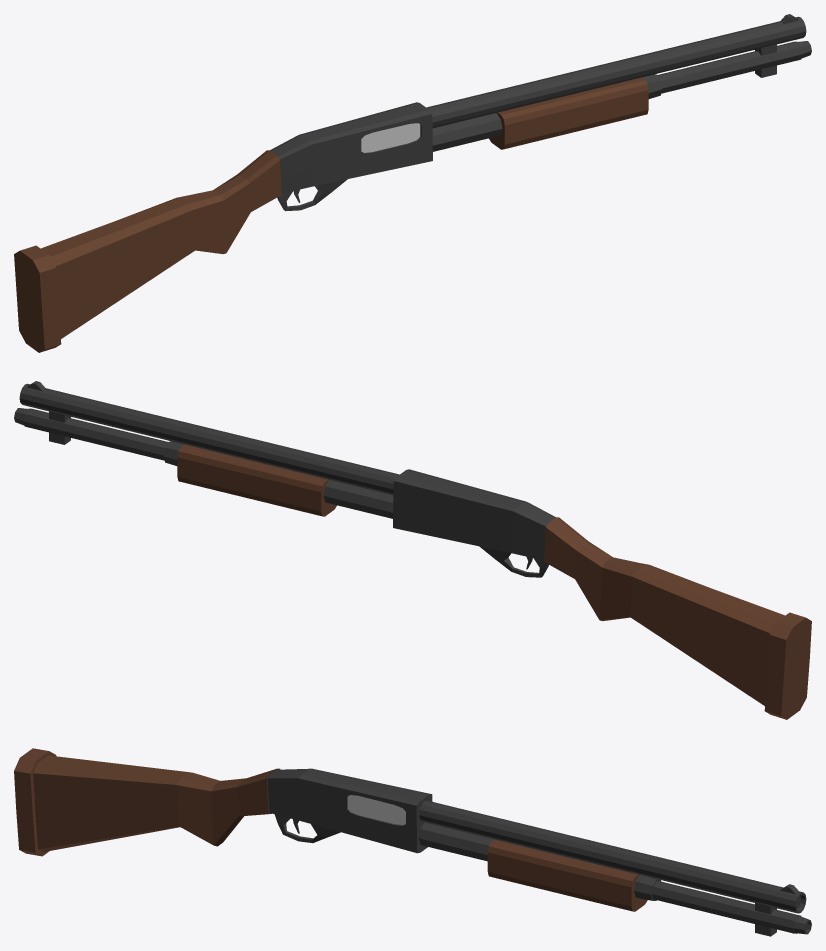
The model's file is Shotgun_01.glb.
3 views of the same model, one above another, from view 1: azimuth 30°, elevation 25°; view 2: azimuth 150°, elevation 25°; view 3: azimuth 330°, elevation 25° (orthographic).
Parts seen in each view (by area): view 1: ShotgunBody, ShotgunPump; view 2: ShotgunBody, ShotgunPump; view 3: ShotgunBody, ShotgunPump.
Boxes of the visible parts, x1=… form: ShotgunBody: x1=14, y1=14, x2=811, y2=352; ShotgunPump: x1=489, y1=77, x2=648, y2=149; ShotgunBody: x1=14, y1=381, x2=811, y2=719; ShotgunPump: x1=177, y1=444, x2=336, y2=516; ShotgunBody: x1=14, y1=748, x2=811, y2=936; ShotgunPump: x1=487, y1=839, x2=647, y2=911.
Size of the model in its own units: 4.91 by 0.8858 by 0.2795.
